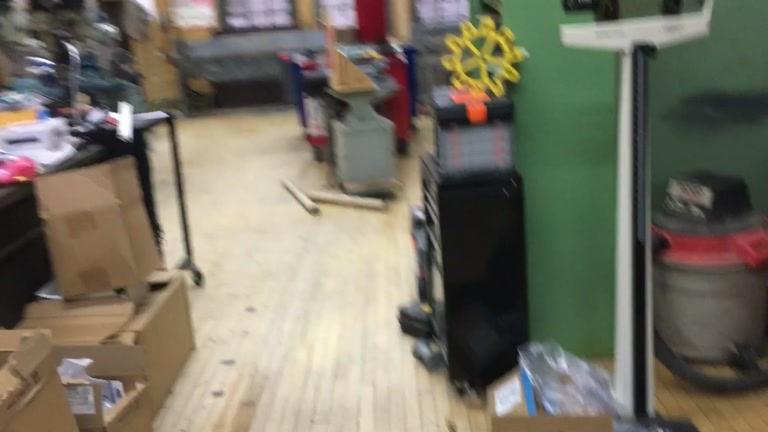gear: (441, 16, 528, 98)
